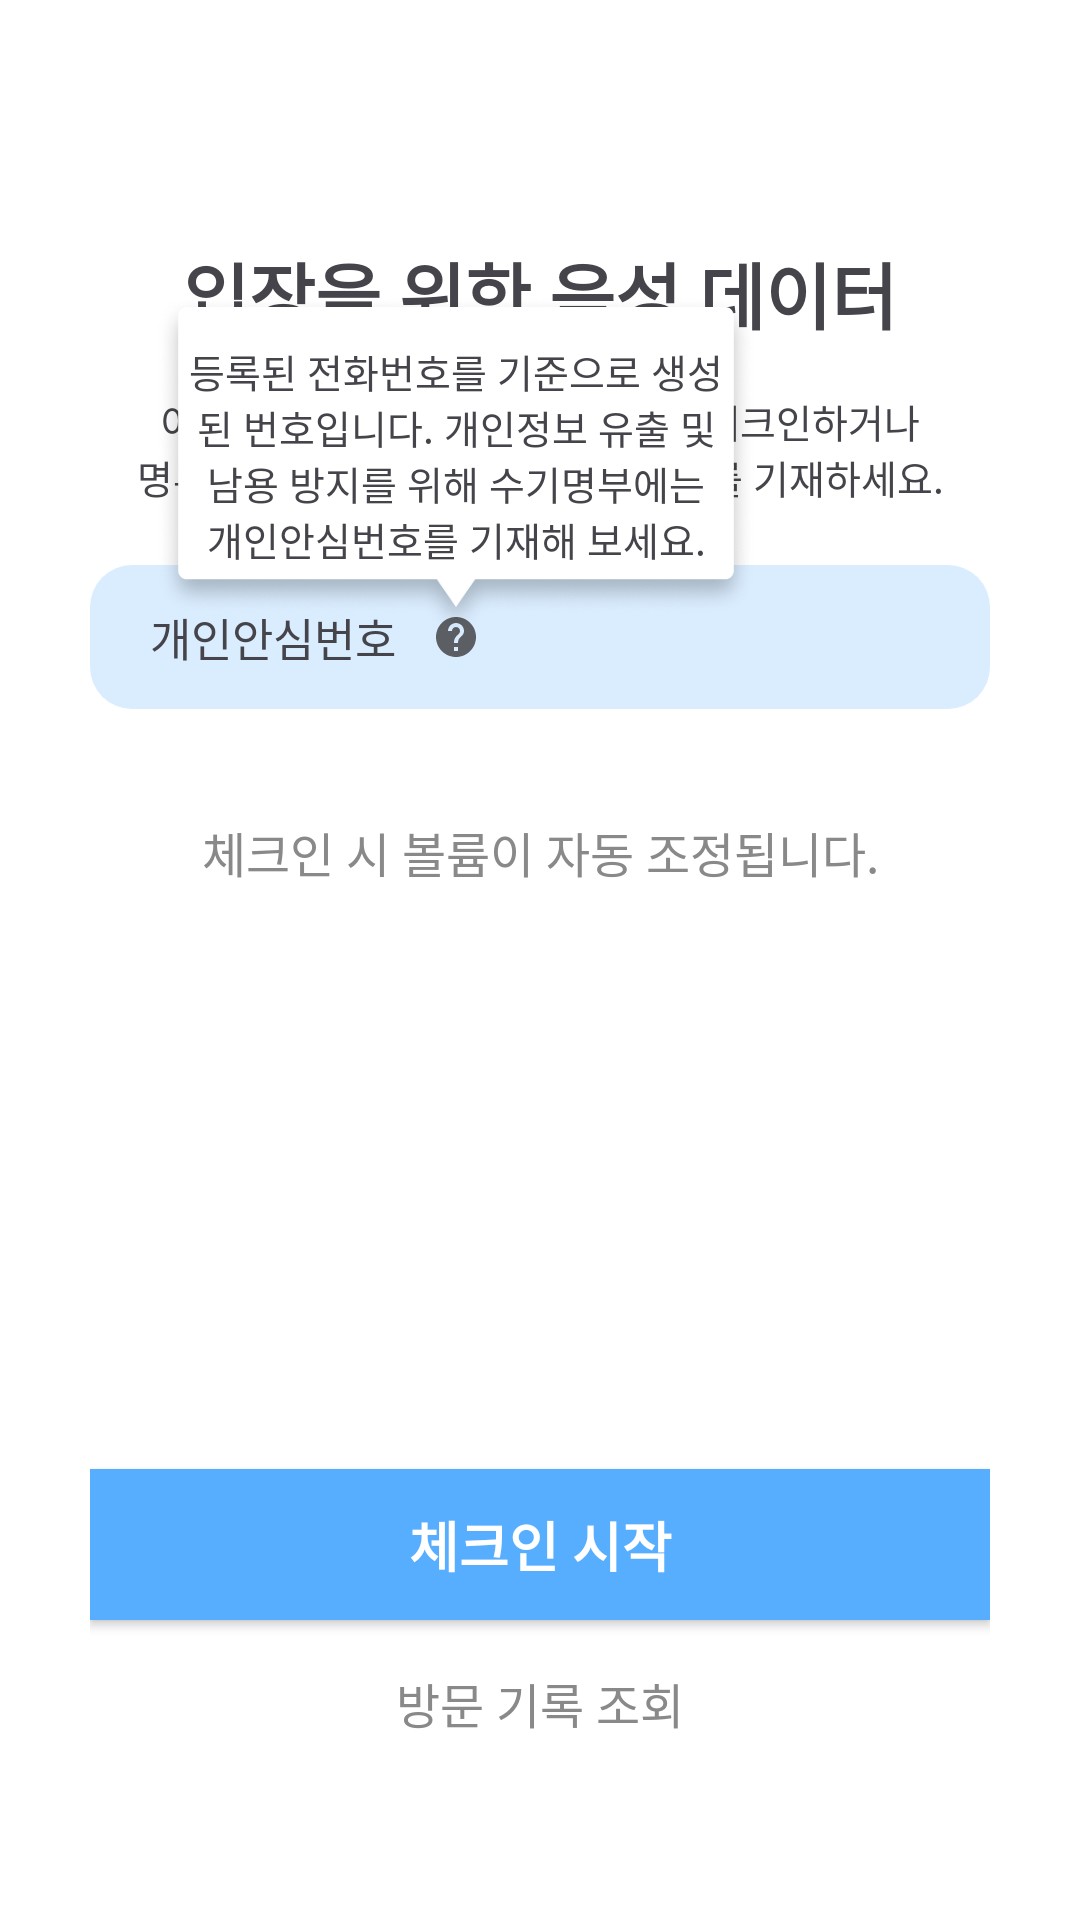

Named icons in this screenshot (1080px×1920px) and their bounding boxes, (x1=x1, y1=y1, x2=x2, y2=y2):
도움말: (x1=436, y1=617, x2=476, y2=657)
